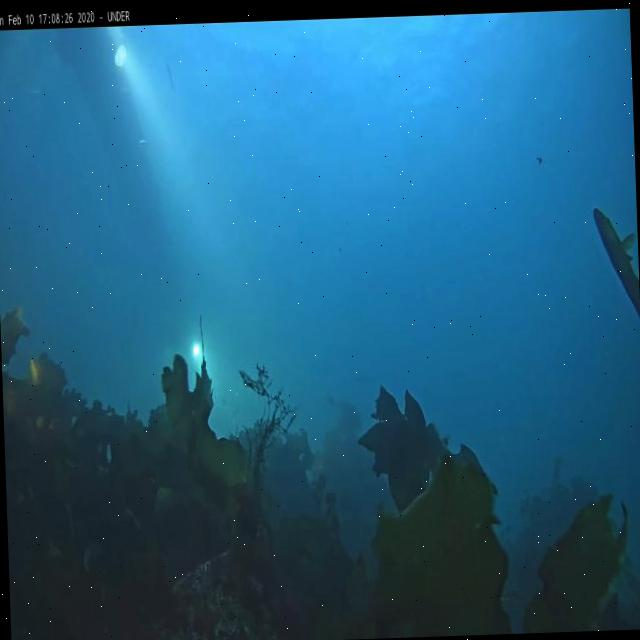fish: (592, 202, 639, 317)
